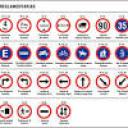speed_limit_90: (95, 16, 111, 34)
